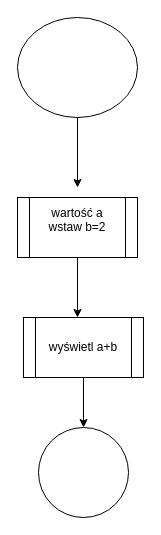
This 161x535 diagram has some shape labels left out. Here are the shapes that lost their labels. From the top down, the box of each, then its label:
(16, 16, 138, 118): Start
(38, 426, 128, 518): Koniec
